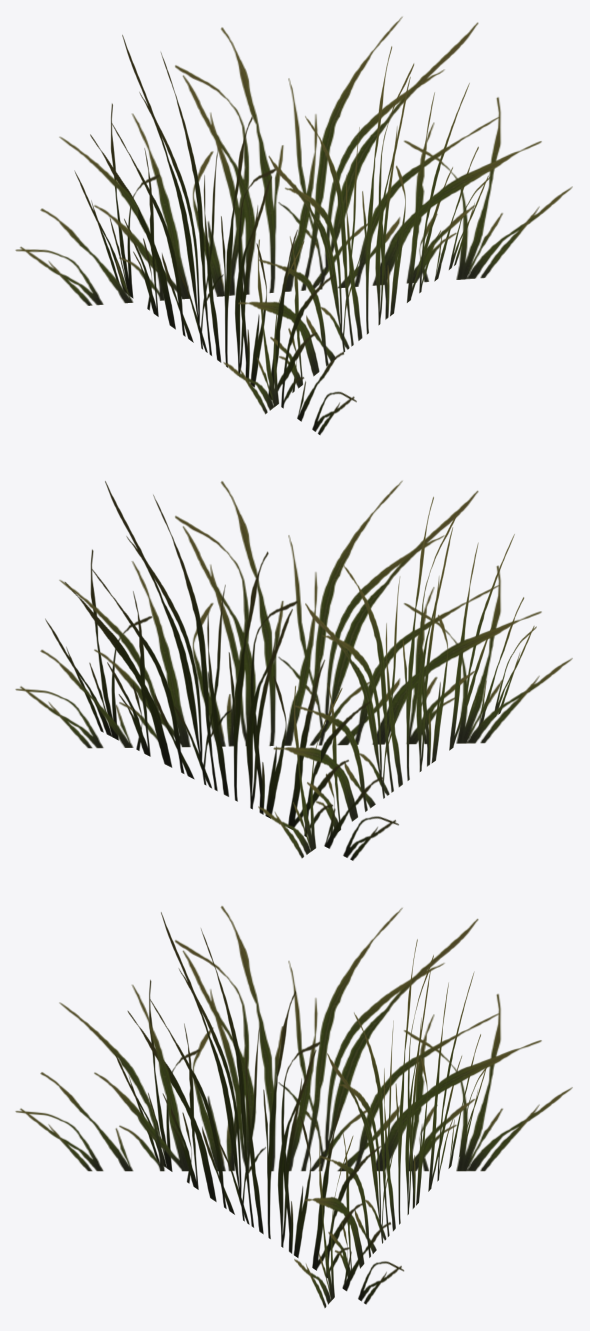
File: grass2.glb
3 renders of one model, top to bottom at view 1: azimuth 30°, elevation 25°; view 2: azimuth 150°, elevation 25°; view 3: azimuth 270°, elevation 25°, orthographic.
Visible parts, largest first — view 1: grass2_LOD1; view 2: grass2_LOD1; view 3: grass2_LOD1.
Part boxes in pixels (x1,y1,x2,y2): grass2_LOD1: [15, 16, 572, 434]; grass2_LOD1: [15, 480, 572, 860]; grass2_LOD1: [15, 906, 572, 1307].
Bounding box in the file's own units: 0.9362 × 0.5403 × 1.
1 material, 1 textured.
